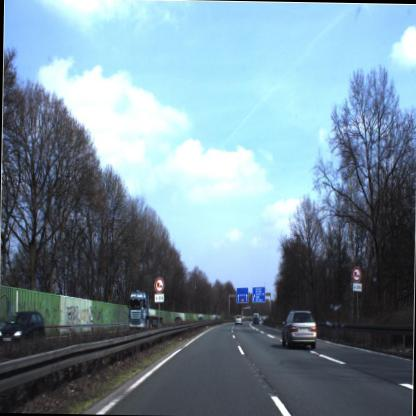prohibitory: (348, 263, 363, 283), (152, 275, 166, 294)
